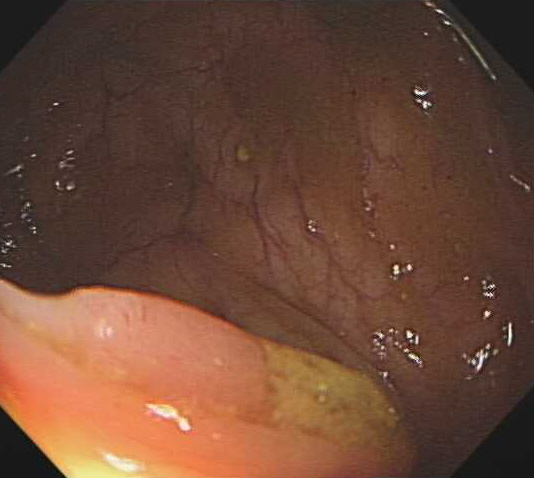adenoma: (65, 282, 273, 421)
